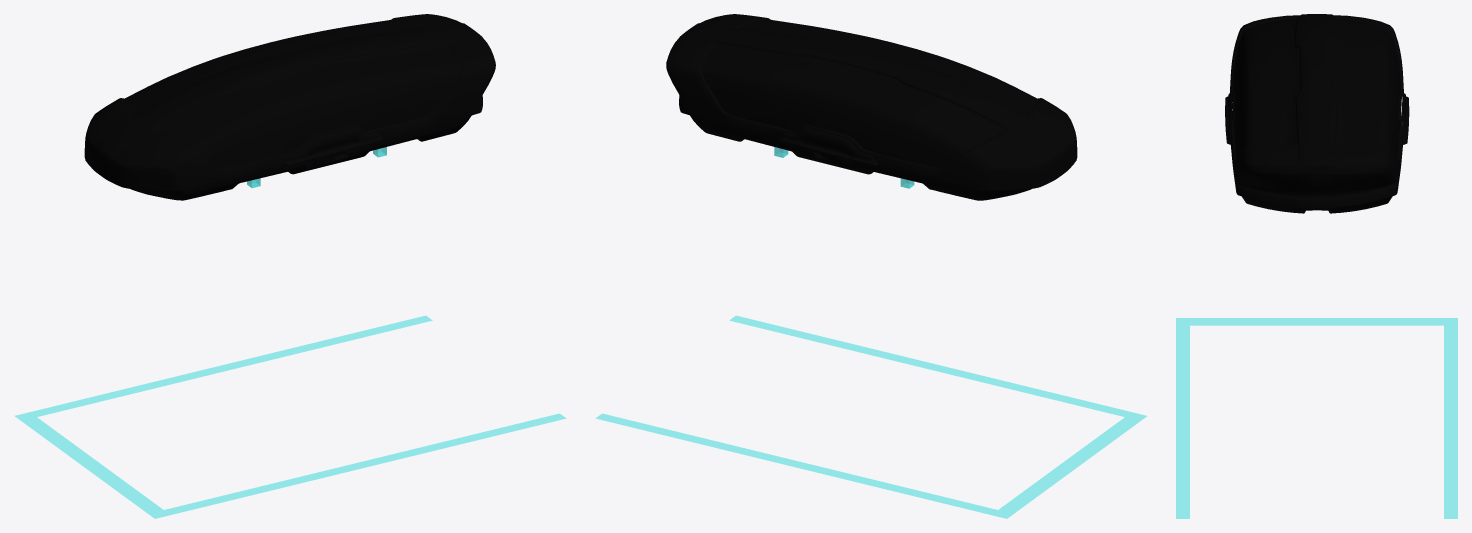
Rendered from Ctype.glb.
3 views of the same model, side by side, from view 1: azimuth 30°, elevation 25°; view 2: azimuth 150°, elevation 25°; view 3: azimuth 270°, elevation 25° (orthographic).
Parts seen in each view (by area): view 1: XT_XL_low, Plane001; view 2: XT_XL_low, Plane001; view 3: XT_XL_low, Plane001.
Part boxes in pixels (<box>): XT_XL_low: <box>84,14,495,200</box>; Plane001: <box>15,316,565,518</box>; XT_XL_low: <box>666,14,1077,200</box>; Plane001: <box>596,316,1146,518</box>; XT_XL_low: <box>1225,14,1409,213</box>; Plane001: <box>1176,318,1457,518</box>.
Size of the model in its own units: 2.35 by 1.95 by 1.39.
3 materials, 2 textured.
